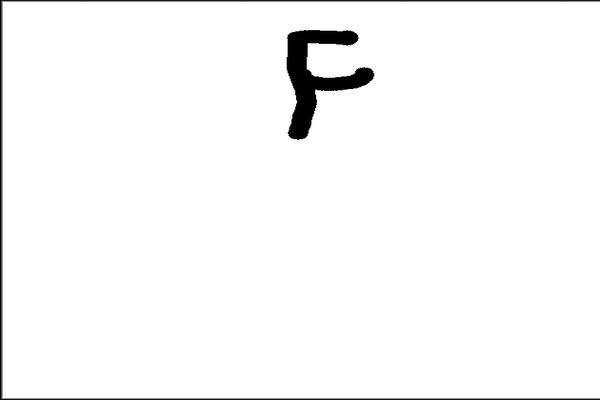F: (281, 26, 376, 142)
